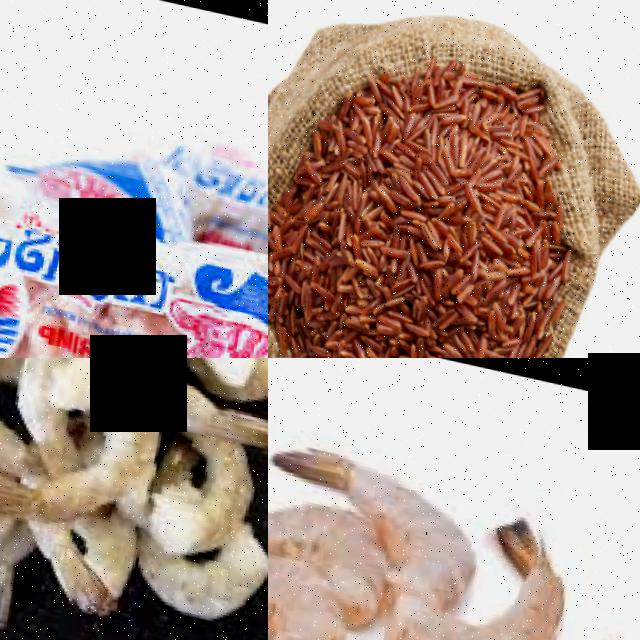red rice: (268, 42, 584, 358)
shrimp: (0, 358, 169, 535), (268, 422, 476, 530), (469, 498, 583, 640), (268, 462, 387, 578), (268, 532, 354, 640), (156, 358, 263, 438)
